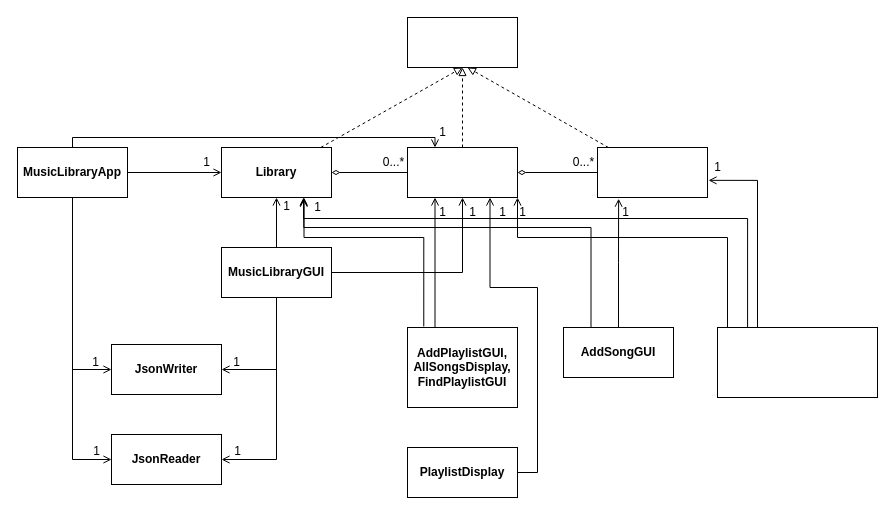
This 895x515 diagram has some shape labels left out. Each missing label, with the box of its shape:
AddSongtoPlaylistGUI, RemoveFromPlaylistGUI,: (716, 326, 878, 398)
Playlist: (406, 146, 518, 198)
Song: (596, 146, 708, 198)
«interface» Writable: (406, 16, 518, 68)
